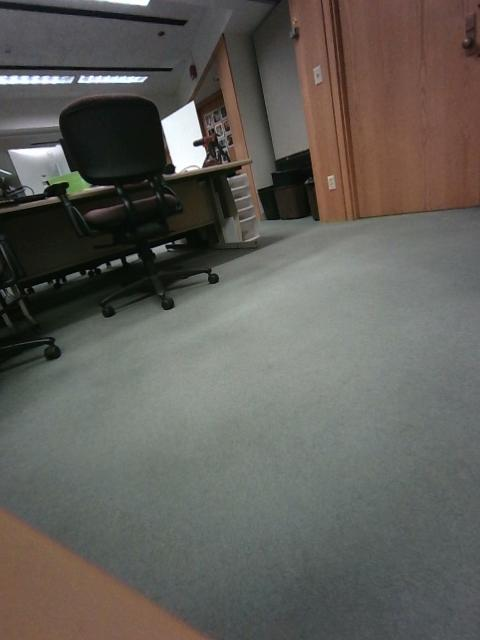block: (291, 329, 353, 404)
